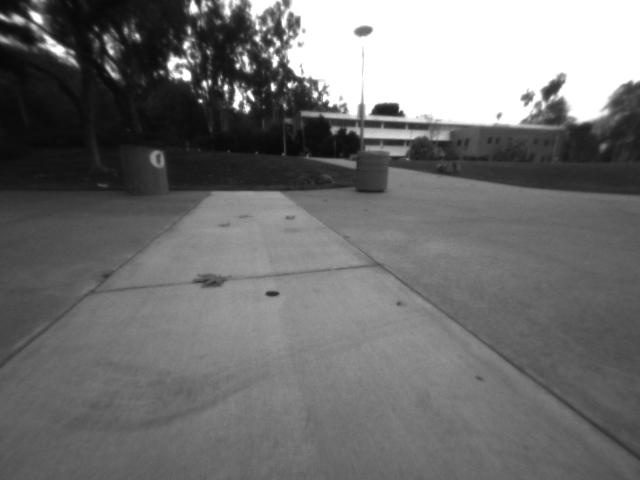trashcan: (115, 138, 171, 198), (351, 149, 391, 196)
